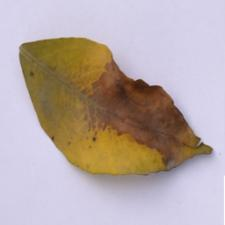Black: (74, 43, 209, 187)
